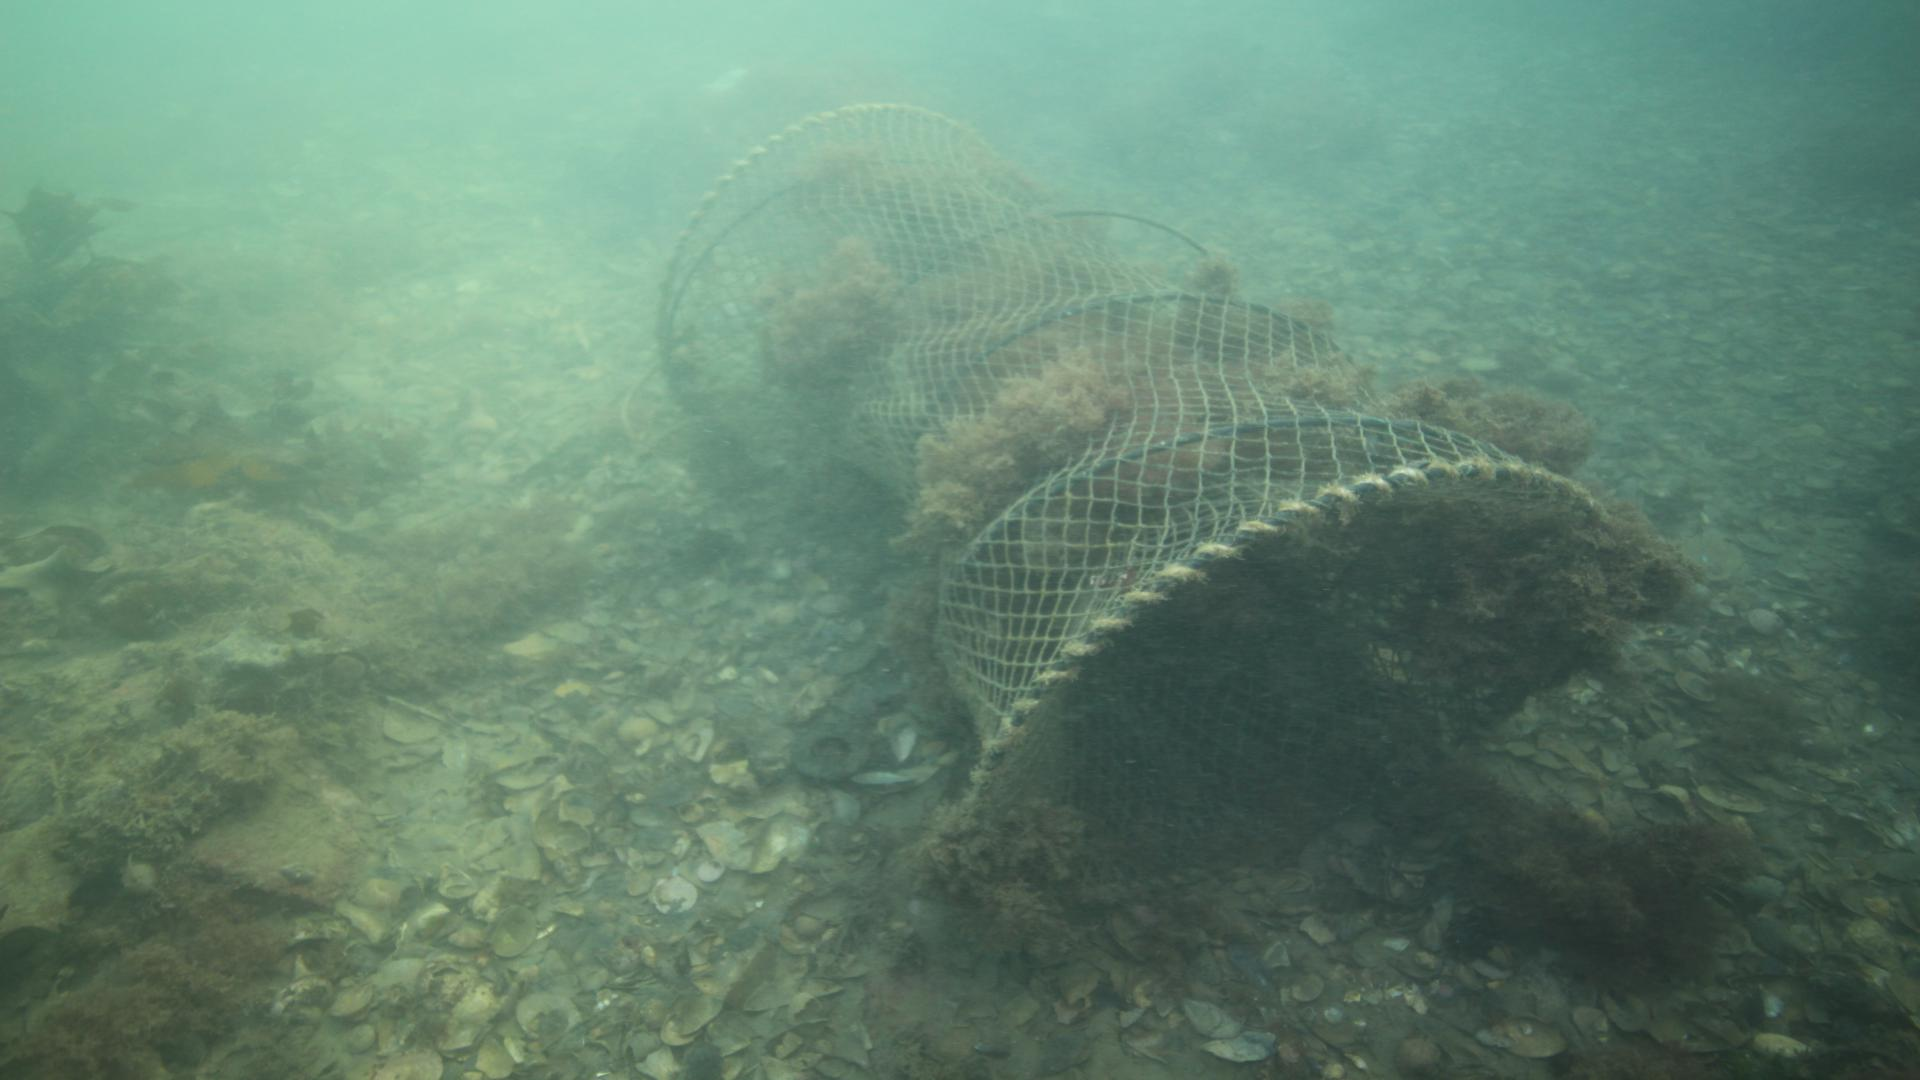spring fish trap: (650, 102, 1634, 907)
